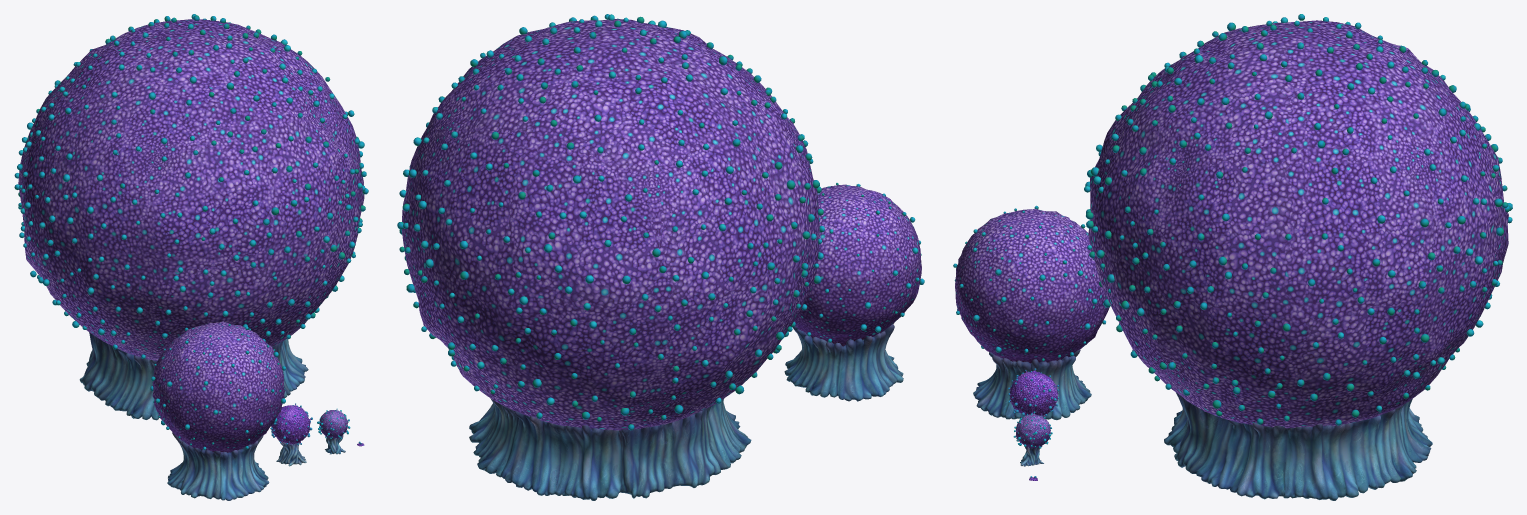
File: Koosh Bush betetr.fbx
The picture shows the model from 3 angles, left to right: view 1: azimuth 30°, elevation 25°; view 2: azimuth 150°, elevation 25°; view 3: azimuth 270°, elevation 25°; orthographic projection. The views are drawn at different scales.
Parts seen in each view (by area): view 1: Coral_reef_koosh_bush_huge_LOD0, Coral_reef_koosh_bush_large_LOD0, Coral_reef_koosh_bush_huge_LOD0.001, Coral_reef_koosh_bush_medium_LOD0, Coral_reef_koosh_bush_small; view 2: Coral_reef_koosh_bush_huge_LOD0, Coral_reef_koosh_bush_huge_LOD0.001, Coral_reef_koosh_bush_large_LOD0; view 3: Coral_reef_koosh_bush_huge_LOD0, Coral_reef_koosh_bush_huge_LOD0.001, Coral_reef_koosh_bush_large_LOD0, Coral_reef_koosh_bush_medium_LOD0, Coral_reef_koosh_bush_small.
Part boxes in pixels (bbox=[...]): Coral_reef_koosh_bush_huge_LOD0: bbox=[18, 19, 364, 360]; Coral_reef_koosh_bush_large_LOD0: bbox=[150, 321, 285, 500]; Coral_reef_koosh_bush_huge_LOD0.001: bbox=[14, 14, 368, 420]; Coral_reef_koosh_bush_medium_LOD0: bbox=[270, 403, 312, 466]; Coral_reef_koosh_bush_small: bbox=[317, 408, 350, 454]; Coral_reef_koosh_bush_huge_LOD0: bbox=[401, 19, 819, 430]; Coral_reef_koosh_bush_huge_LOD0.001: bbox=[397, 14, 824, 500]; Coral_reef_koosh_bush_large_LOD0: bbox=[784, 183, 924, 401]; Coral_reef_koosh_bush_huge_LOD0: bbox=[1088, 20, 1508, 428]; Coral_reef_koosh_bush_huge_LOD0.001: bbox=[1084, 14, 1512, 500]; Coral_reef_koosh_bush_large_LOD0: bbox=[953, 205, 1109, 420]; Coral_reef_koosh_bush_medium_LOD0: bbox=[1008, 368, 1059, 441]; Coral_reef_koosh_bush_small: bbox=[1013, 411, 1052, 466].
Bounding box in the file's own units: 13.96 × 14.92 × 18.31.
